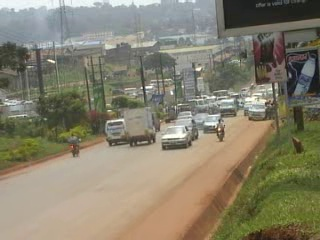Car: (159, 124, 193, 151), (173, 118, 199, 140), (202, 113, 224, 134), (162, 104, 179, 125), (191, 111, 209, 128), (176, 109, 196, 124)
Motorcycle: (67, 129, 83, 158), (215, 118, 227, 142)
